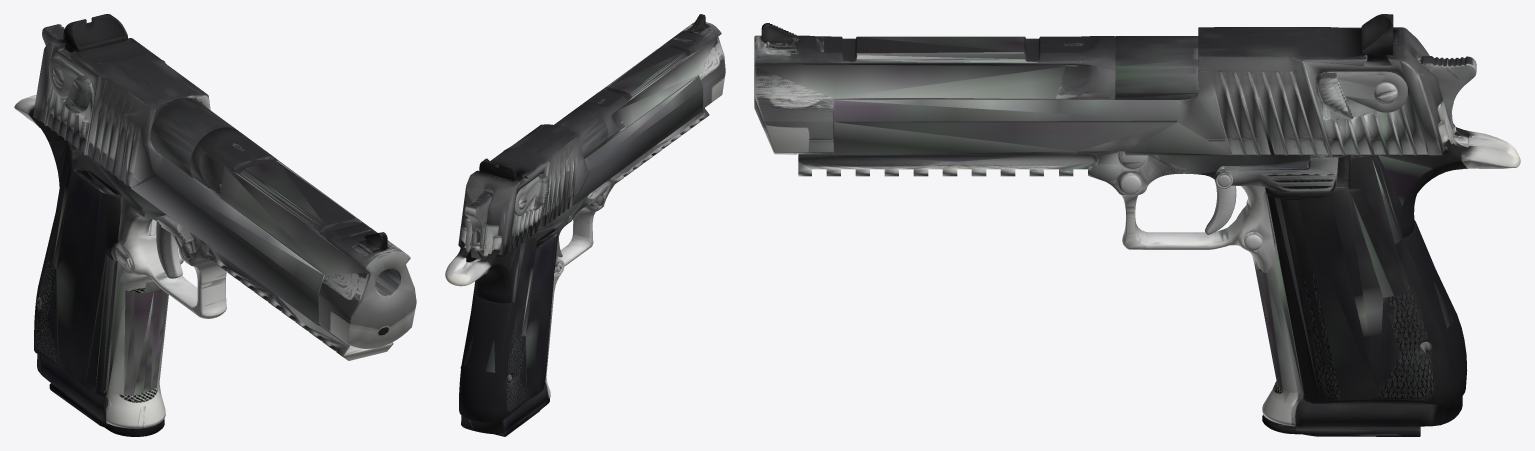
The model's file is Meshy_AI__0414155015_texture.glb.
3 renders of one model, left to right at view 1: azimuth 30°, elevation 25°; view 2: azimuth 150°, elevation 25°; view 3: azimuth 270°, elevation 25°, orthographic. The views are drawn at different scales.
Size of the model in its own units: 0.3026 by 1.15 by 2.
1 material, 1 textured.
